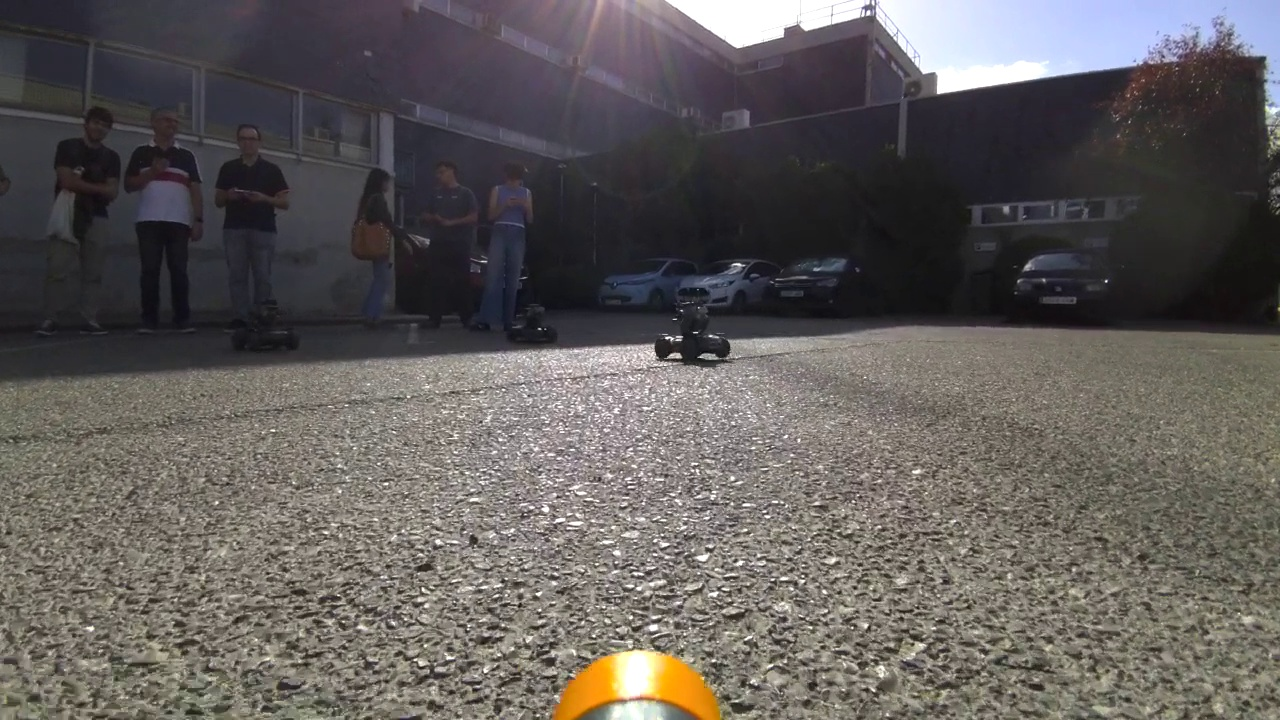robot: (649, 288, 736, 367), (217, 302, 309, 353), (507, 300, 552, 346)
